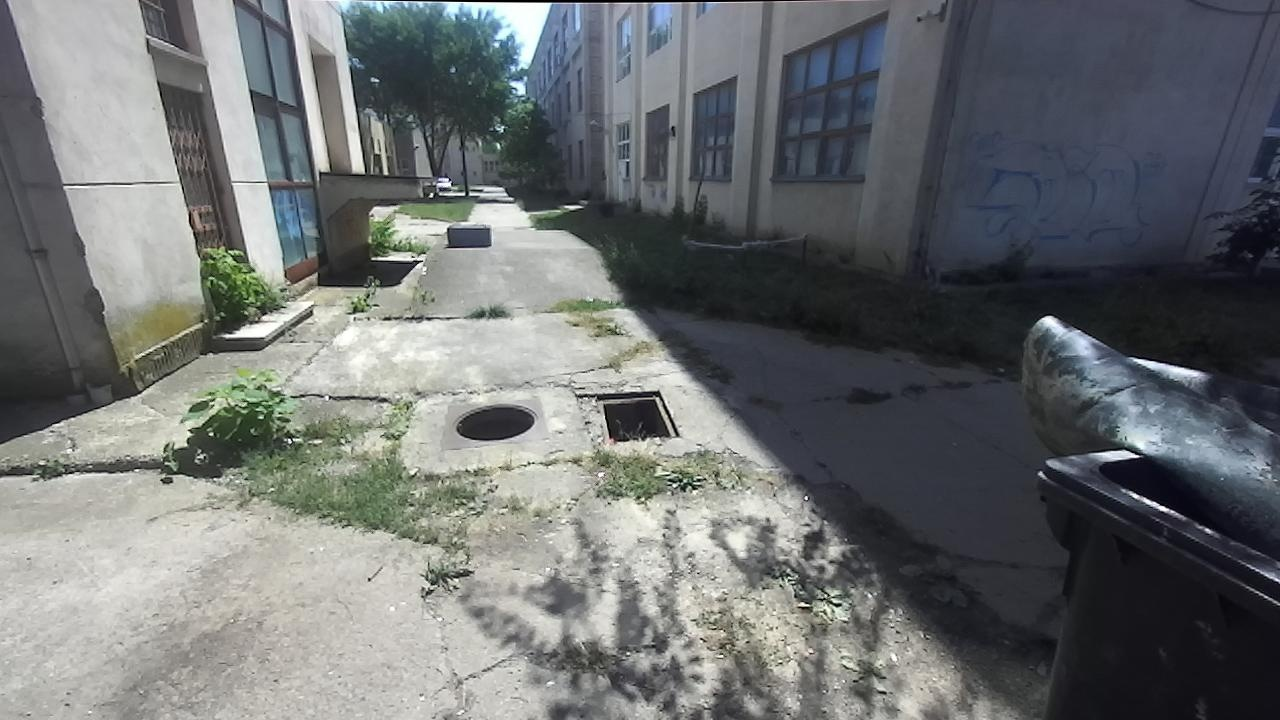drain: (572, 391, 682, 438), (446, 401, 540, 440)
